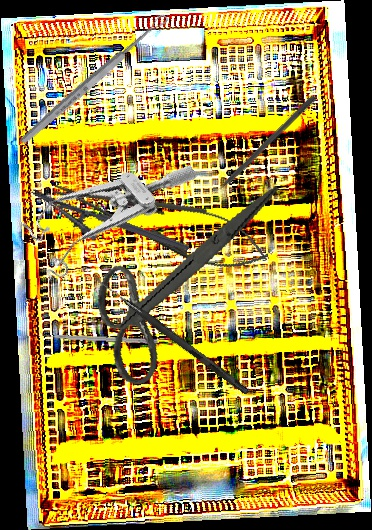Chopper: (35, 326, 159, 345)
Hook Surgical: (91, 275, 252, 396)
Iris Scissors: (78, 152, 281, 407)
Needle Holder: (45, 161, 277, 284), (22, 187, 191, 273)
Pusher: (202, 93, 318, 205)
Speculum: (9, 115, 199, 296)
Surgical Spoon: (17, 12, 171, 147)
